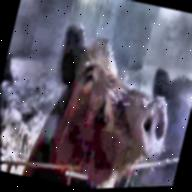boar: (24, 4, 190, 191)
